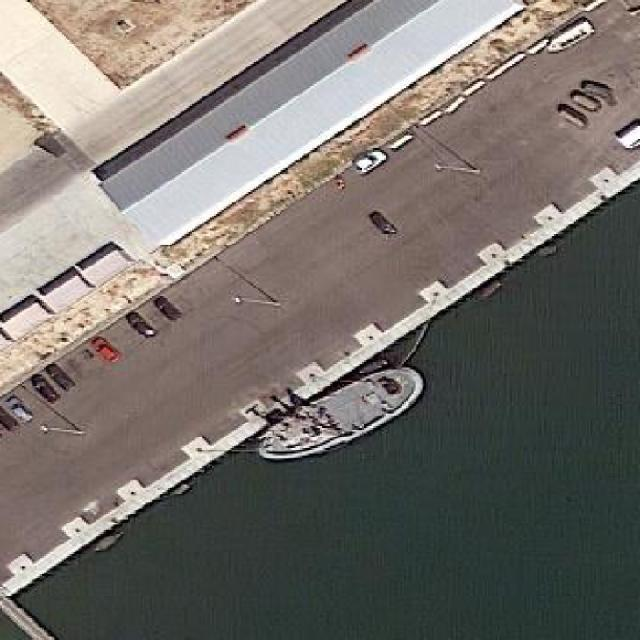Hovercraft: (251, 353, 431, 478)
